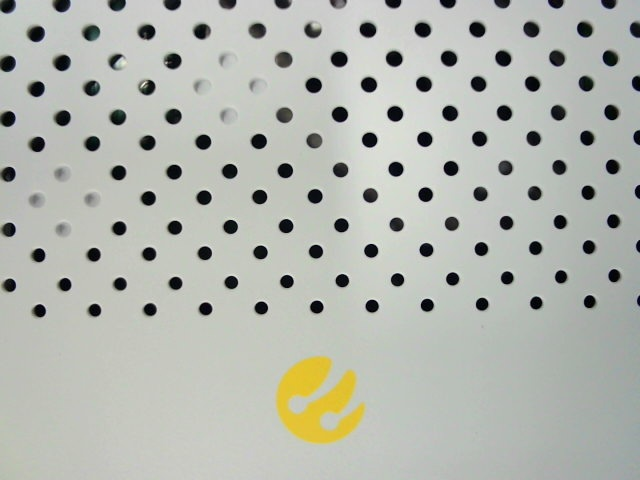AV_H3600Yellow: (270, 350, 367, 447)
